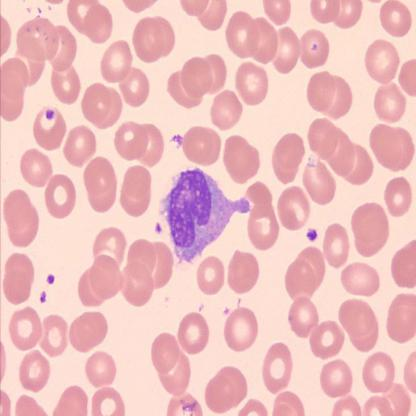Monocyte: (157, 164, 252, 264)
